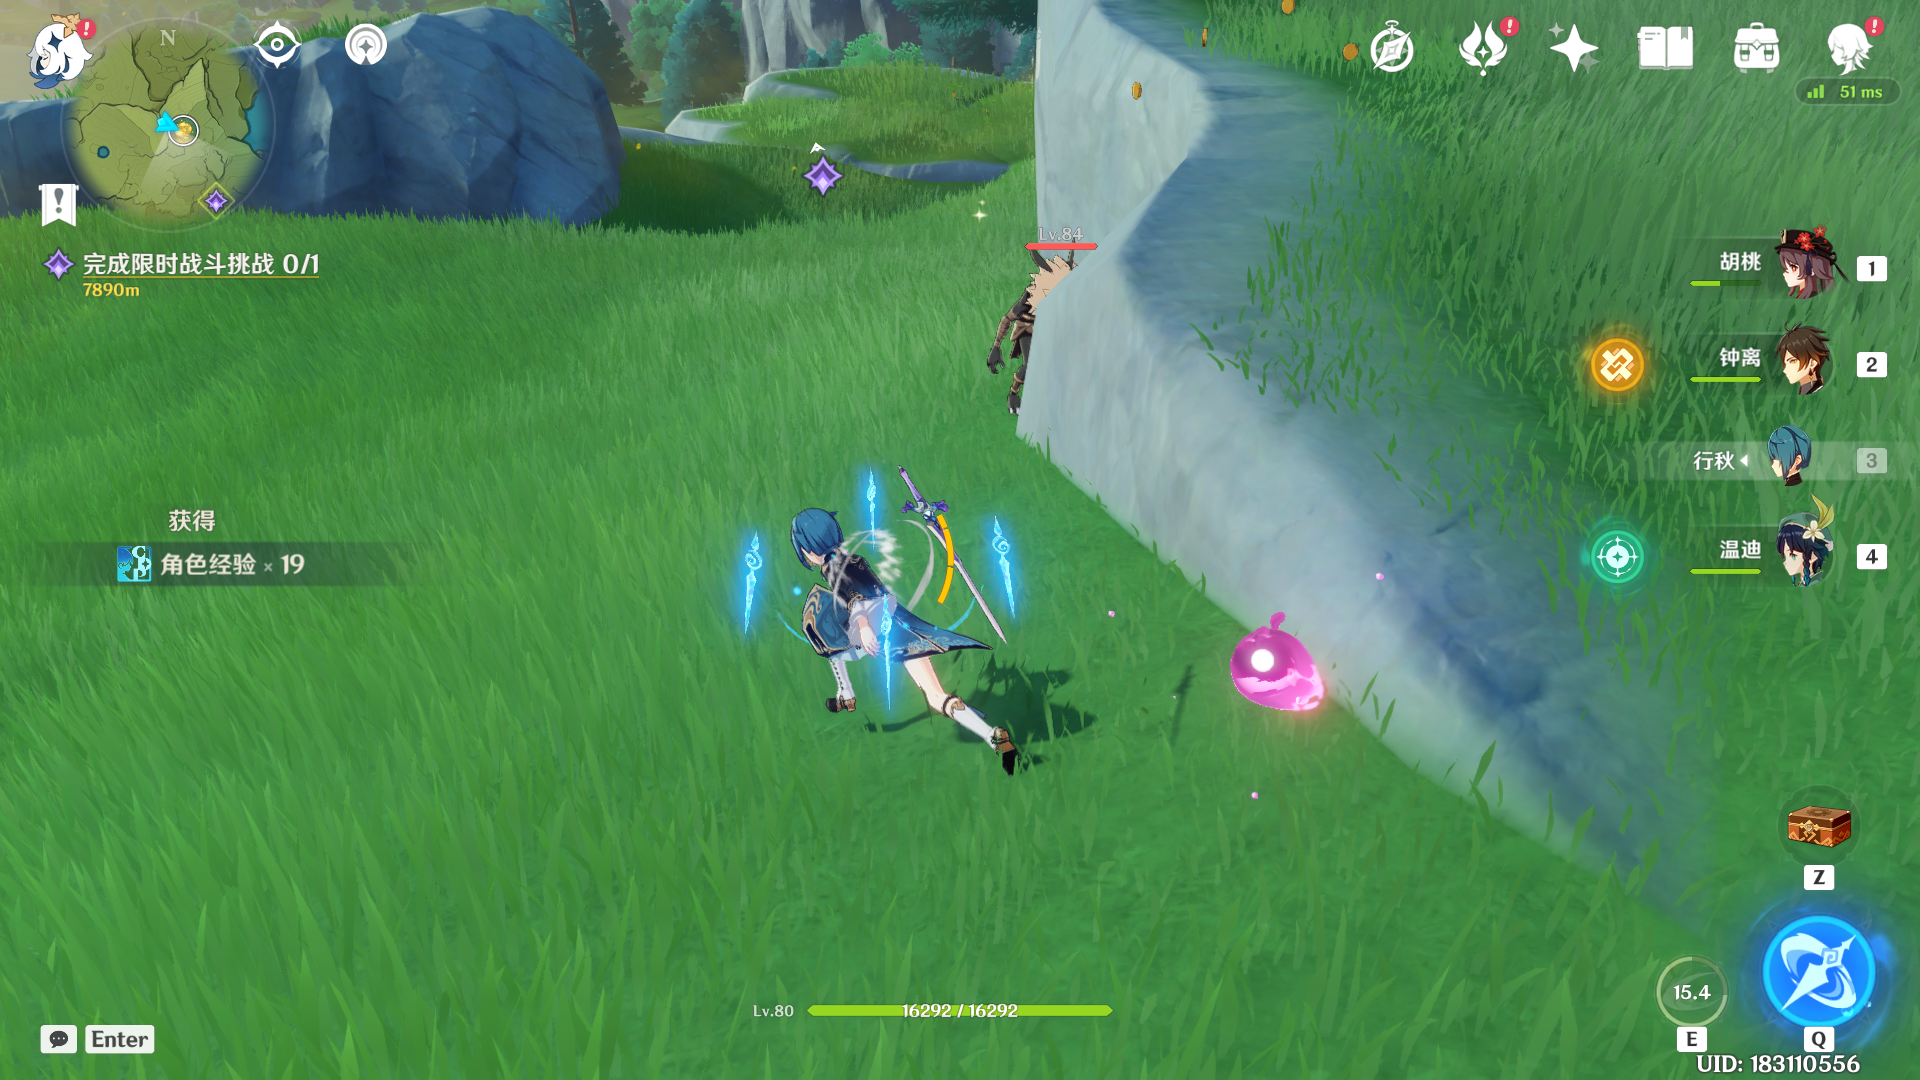character: (698, 465, 1088, 814)
hili: (988, 231, 1116, 415)
